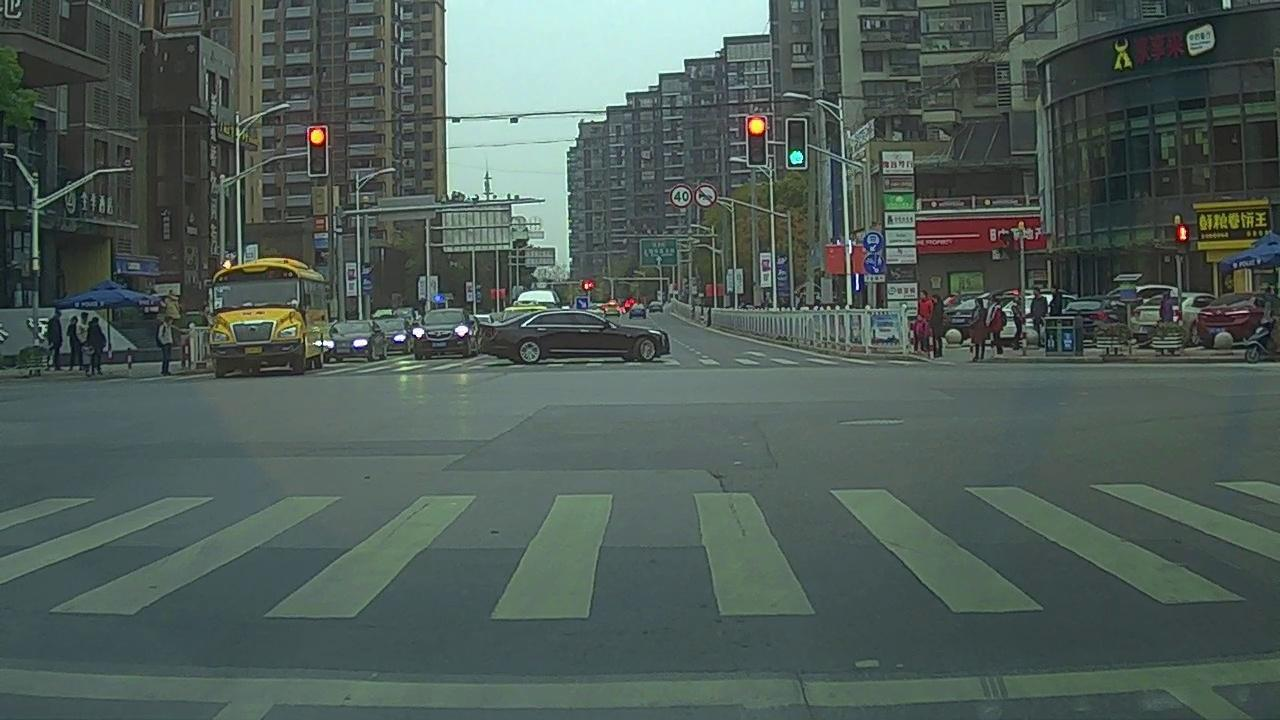traffic_light: (746, 116, 767, 165), (786, 119, 806, 170), (309, 127, 328, 176)
